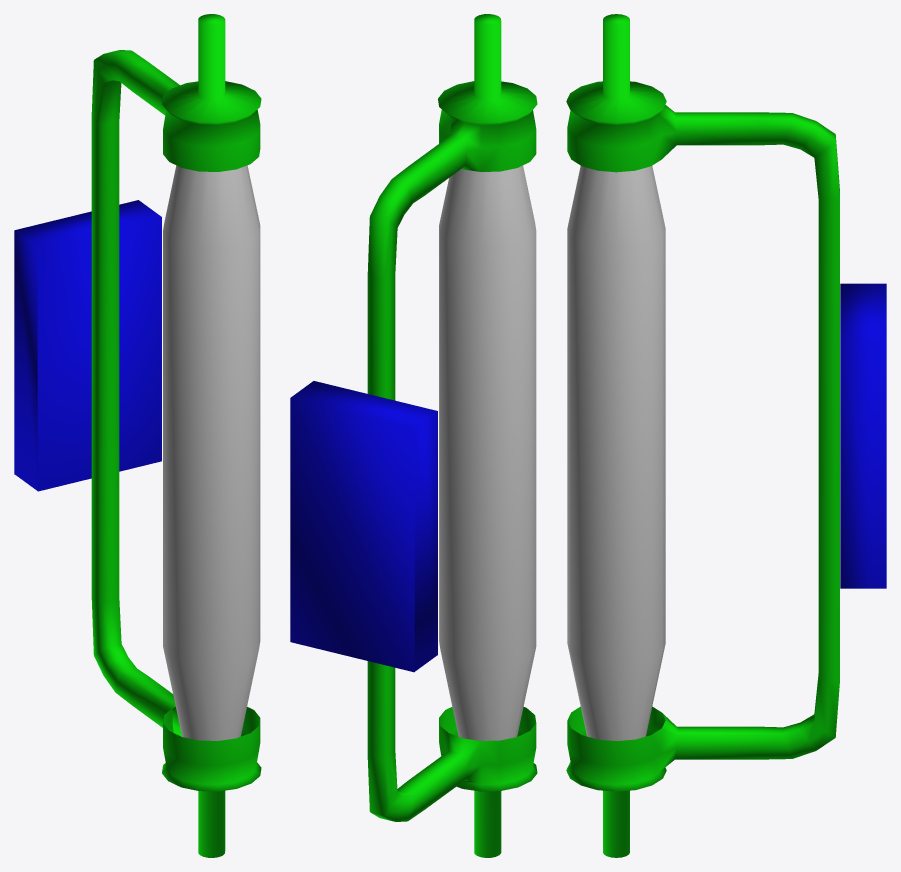
File: longwalllampxxxxxxxx.fbx
The picture shows the model from 3 angles, left to right: view 1: azimuth 30°, elevation 25°; view 2: azimuth 150°, elevation 25°; view 3: azimuth 270°, elevation 25°; orthographic projection.
Parts seen in each view (by area): view 1: Cylinder.001, Cylinder.002; view 2: Cylinder.001, Cylinder.002; view 3: Cylinder.001, Cylinder.002.
Boxes of the visible parts, x1=… form: Cylinder.001: x1=14, y1=14, x2=261, y2=857; Cylinder.002: x1=163, y1=165, x2=260, y2=740; Cylinder.001: x1=290, y1=14, x2=537, y2=857; Cylinder.002: x1=439, y1=165, x2=536, y2=740; Cylinder.001: x1=566, y1=14, x2=886, y2=857; Cylinder.002: x1=567, y1=166, x2=665, y2=740.
Size of the model in its own units: 94.96 by 608 by 212.
